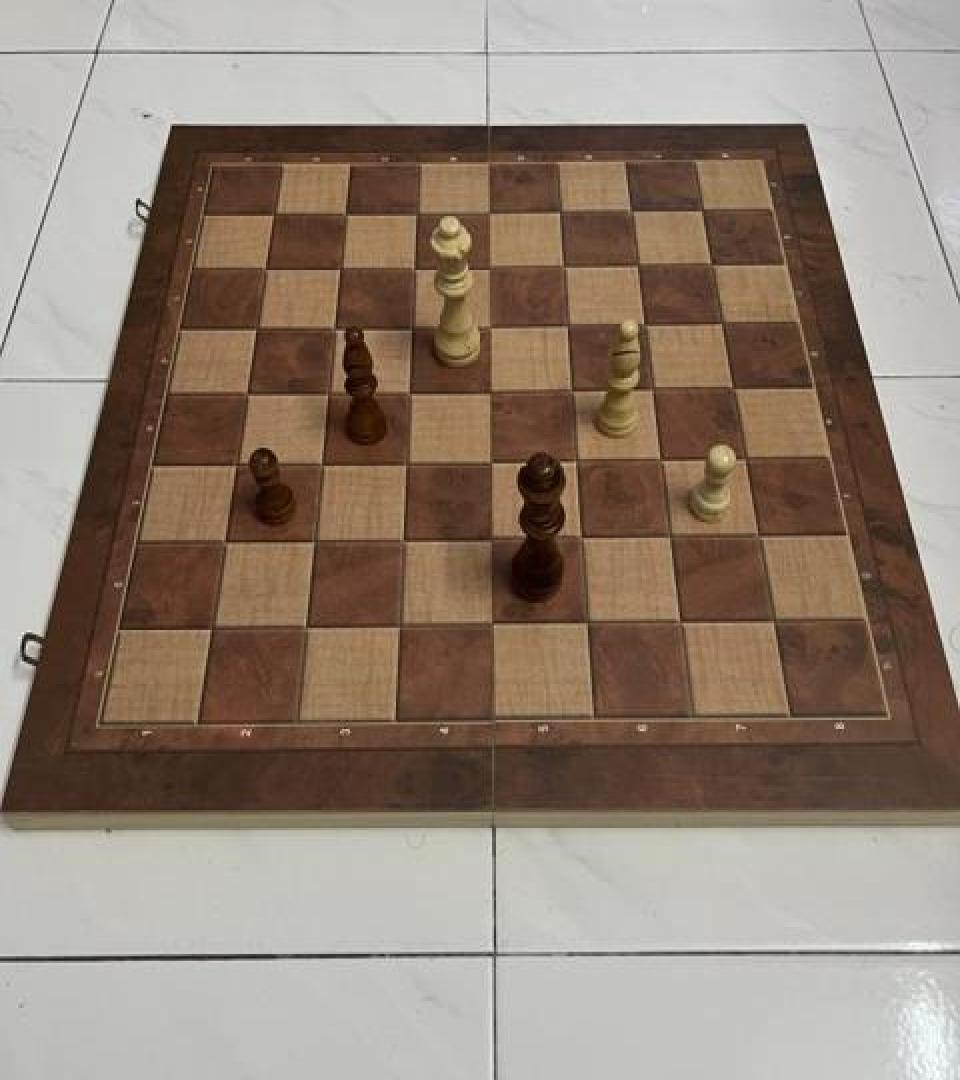xcorner: (688, 194, 720, 230), (617, 194, 649, 230), (402, 196, 434, 232), (329, 196, 361, 232), (257, 197, 289, 233), (698, 248, 730, 284), (623, 248, 655, 284), (549, 250, 581, 286), (474, 250, 506, 286), (400, 251, 432, 287), (325, 252, 357, 288), (249, 252, 281, 288), (708, 307, 740, 343), (630, 308, 662, 344), (553, 310, 585, 346), (475, 310, 507, 346), (397, 310, 429, 346), (319, 312, 351, 348), (241, 313, 273, 349), (719, 371, 751, 407), (638, 372, 670, 408), (557, 374, 589, 410), (476, 374, 508, 410), (395, 376, 427, 412), (313, 377, 345, 413), (232, 378, 264, 414), (730, 442, 762, 478), (646, 443, 678, 479), (562, 444, 594, 480), (392, 446, 424, 482), (307, 448, 339, 484), (221, 449, 253, 485), (743, 518, 775, 554), (655, 520, 687, 556), (567, 521, 599, 557), (478, 523, 510, 559), (389, 524, 421, 560), (300, 526, 332, 562), (210, 526, 242, 562), (758, 603, 790, 639), (665, 604, 697, 640), (573, 606, 605, 642), (480, 608, 512, 644), (386, 610, 418, 646), (292, 611, 324, 647), (198, 612, 230, 648), (545, 195, 577, 230), (474, 195, 506, 230), (477, 446, 509, 481)
